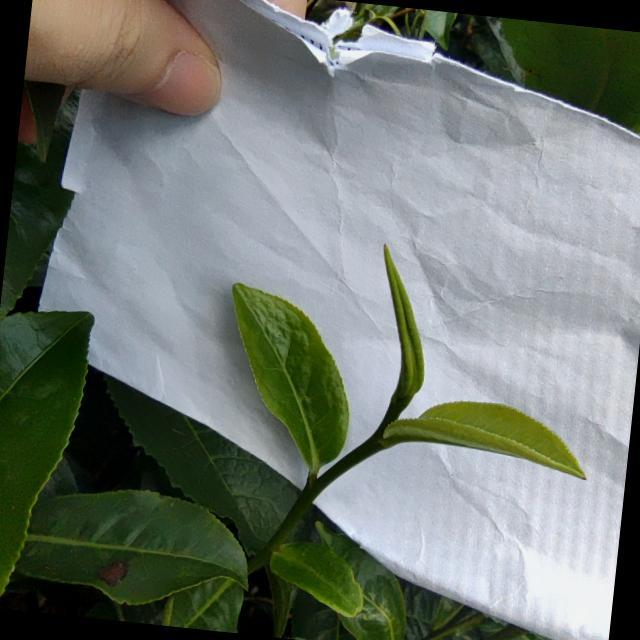Stem: (338, 434, 384, 475)
